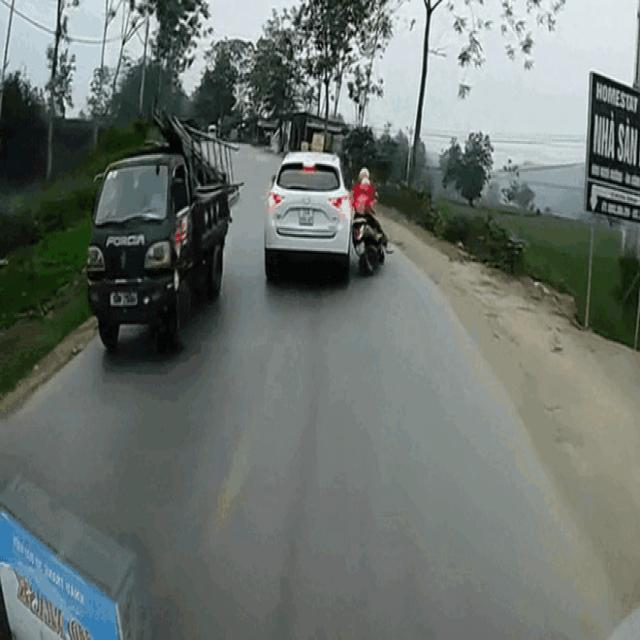multiple_accident: (263, 141, 391, 296)
normal: (67, 127, 246, 384)
